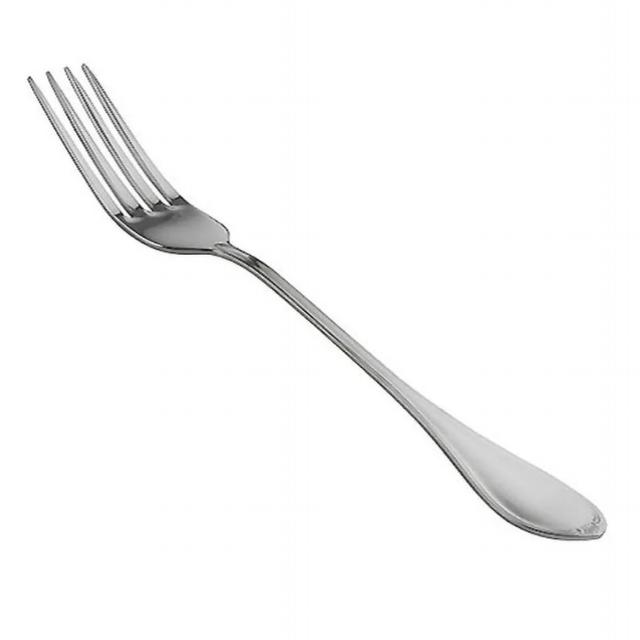fork: (21, 59, 615, 550)
